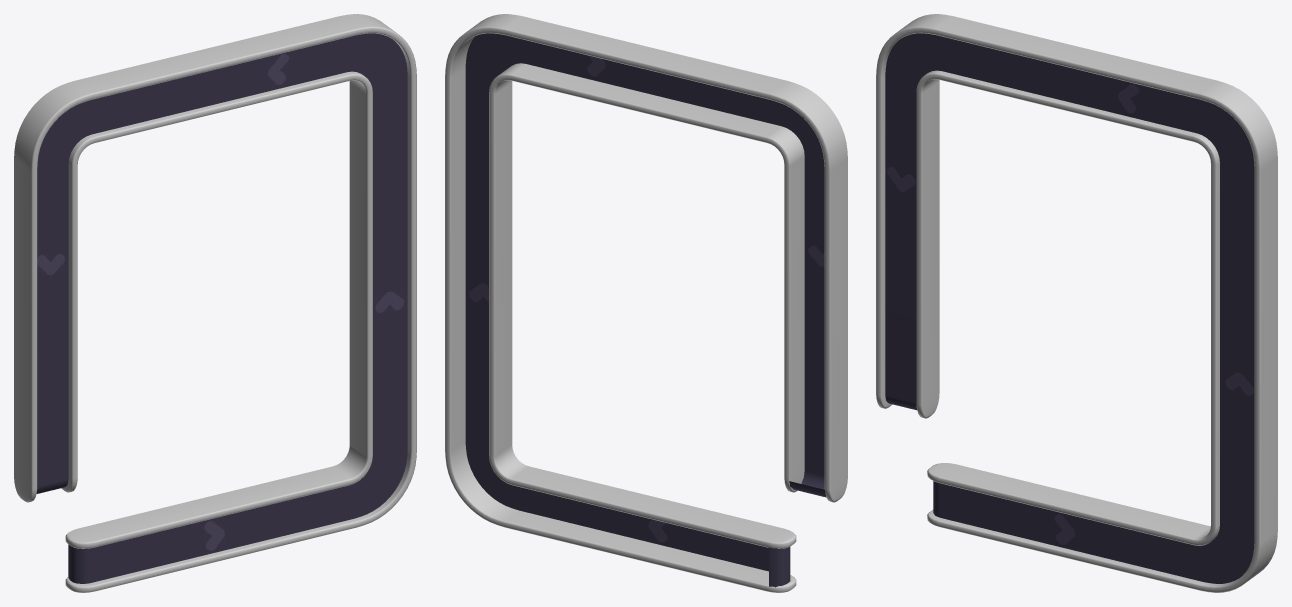
The model's file is Machine_1.fbx.
3 renders of one model, left to right at view 1: azimuth 30°, elevation 25°; view 2: azimuth 150°, elevation 25°; view 3: azimuth 330°, elevation 25°, orthographic.
Visible parts, largest first — view 1: Machine_1; view 2: Machine_1; view 3: Machine_1.
Part boxes in pixels (left/top/right/bottom): Machine_1: left=14, top=14, right=416, bottom=592; Machine_1: left=445, top=14, right=847, bottom=592; Machine_1: left=876, top=14, right=1277, bottom=592.
Bounding box in the file's own units: 1.75 × 2.16 × 0.1453.
